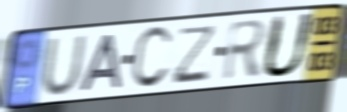A: (77, 32, 124, 94)
C: (128, 23, 175, 92)
R: (221, 17, 270, 84)
U: (259, 11, 318, 80), (40, 33, 89, 97)
Z: (170, 22, 220, 86)
